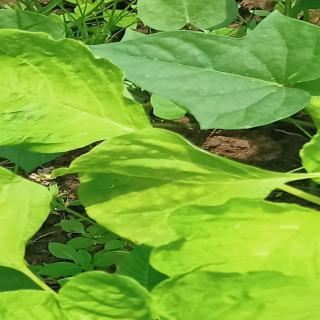karat_putih: (0, 169, 31, 251)
virus_keriting: (0, 27, 133, 154)
